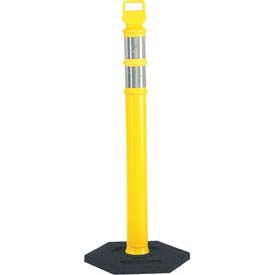yellowC: (75, 1, 201, 275)
